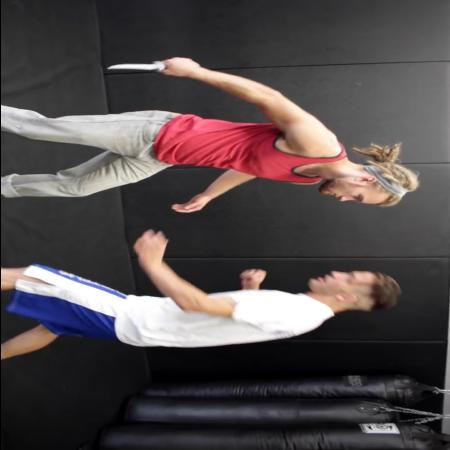long weapon: (104, 54, 197, 76)
